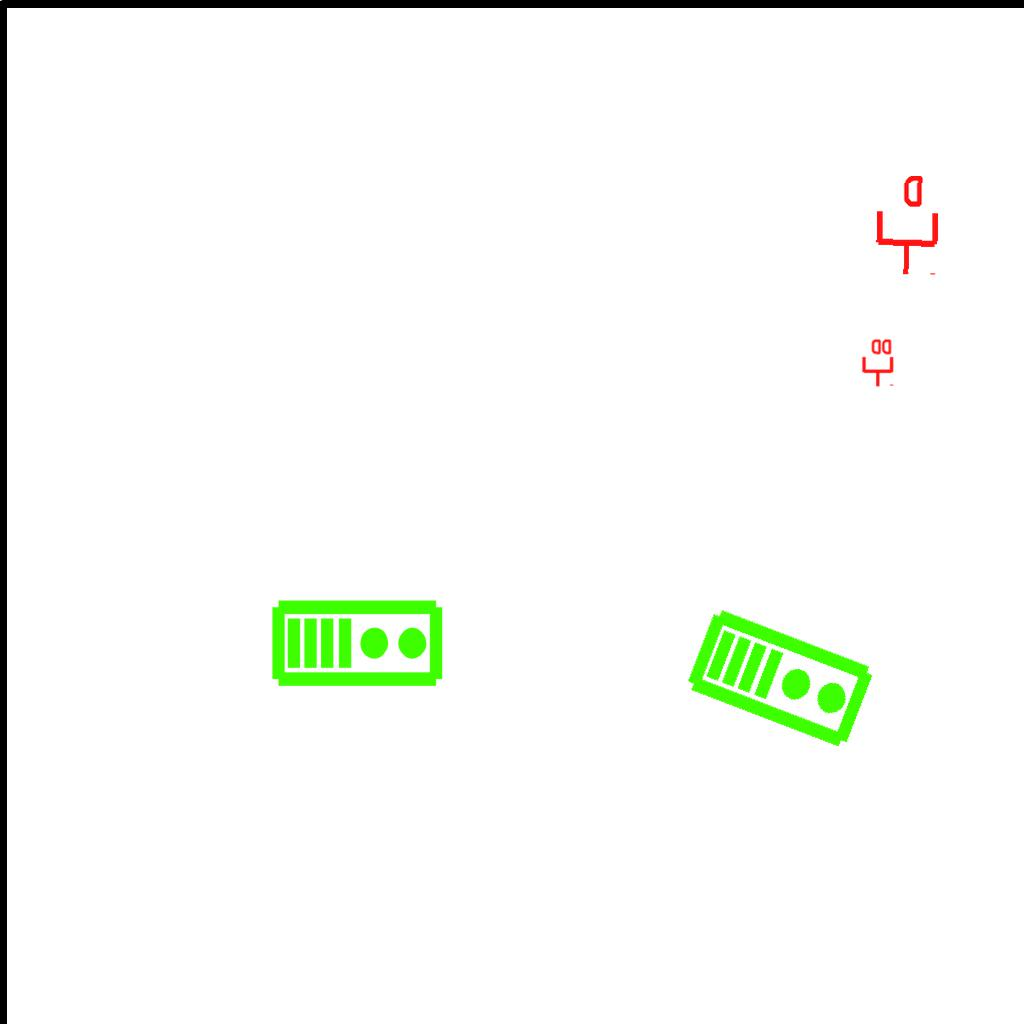Datenanschluss_einfach: (871, 174, 944, 278)
Datenanschluss_zweifach: (860, 337, 894, 388)
Gegensprechanlage_mit_Video: (682, 601, 881, 753), (270, 594, 446, 689)
